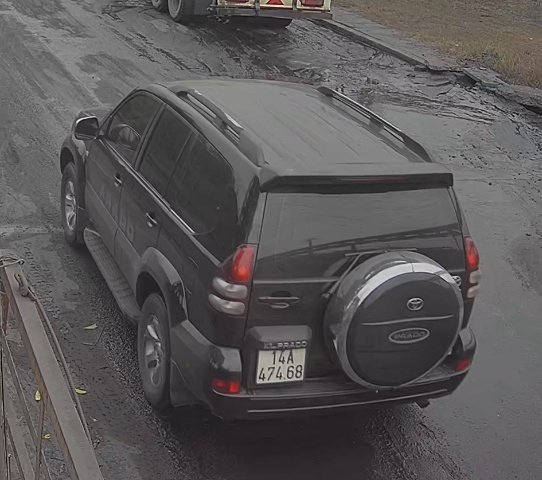vehicle plate: (251, 337, 312, 388)
